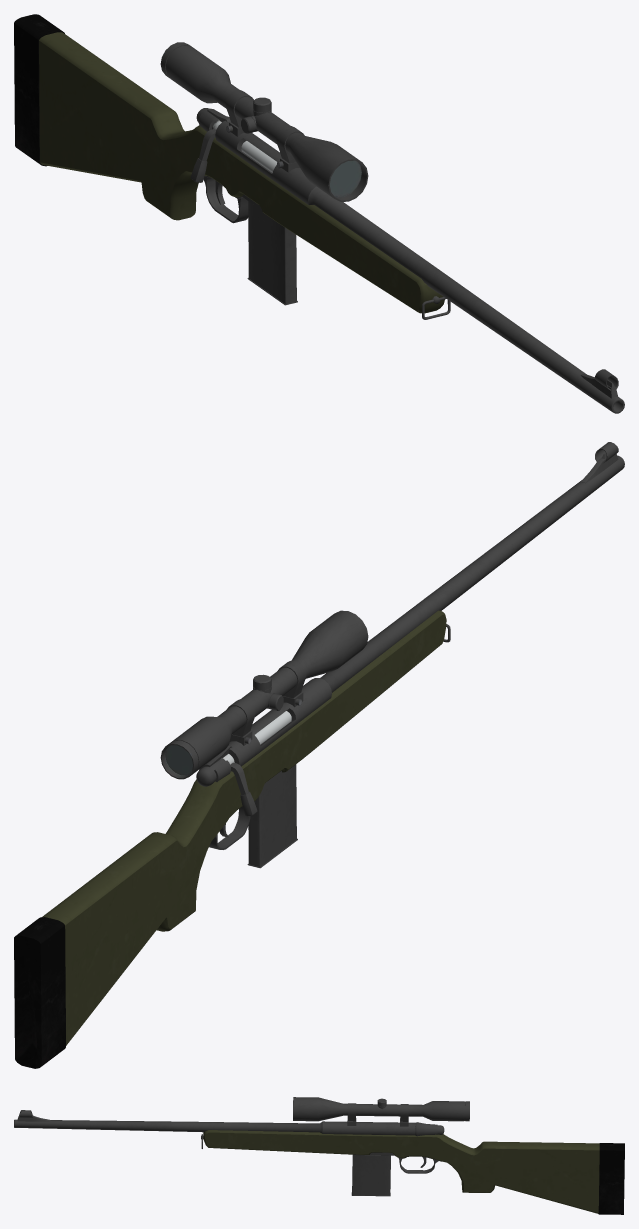
The model's file is scoped_rifle.high.glb.
3 views of the same model, one above another, from view 1: azimuth 30°, elevation 25°; view 2: azimuth 150°, elevation 25°; view 3: azimuth 270°, elevation 25° (orthographic). The views are drawn at different scales.
Visible parts, largest first — view 1: Trigger; view 2: Trigger; view 3: Trigger.
Part boxes in pixels (x1=…): Trigger: x1=14, y1=14, x2=624, y2=413; Trigger: x1=14, y1=442, x2=624, y2=1068; Trigger: x1=14, y1=1097, x2=624, y2=1214.
Bounding box in the file's own units: 0.0571 × 0.2384 × 1.15.
1 material, 1 textured.
